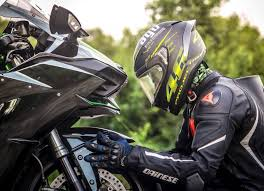helmet: (131, 18, 207, 109)
